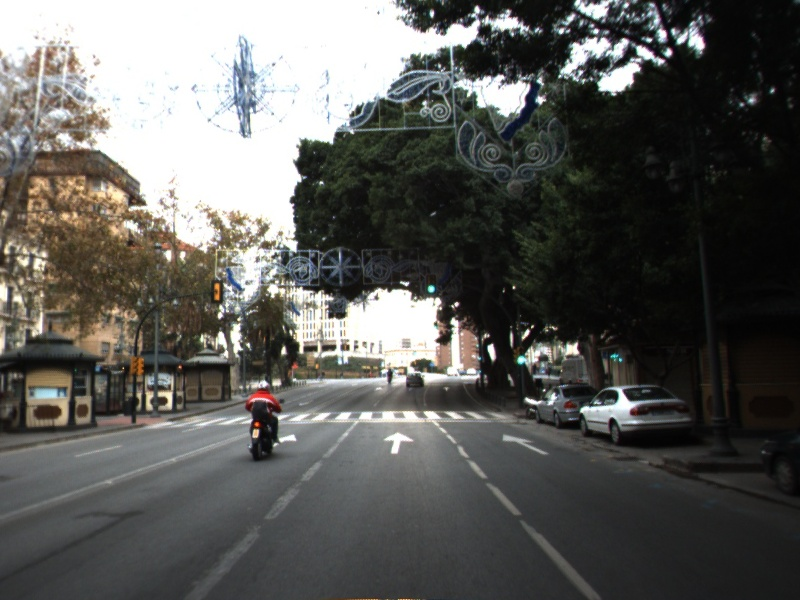STRAIGHT: (500, 431, 553, 457), (381, 430, 417, 455), (271, 432, 299, 449)
